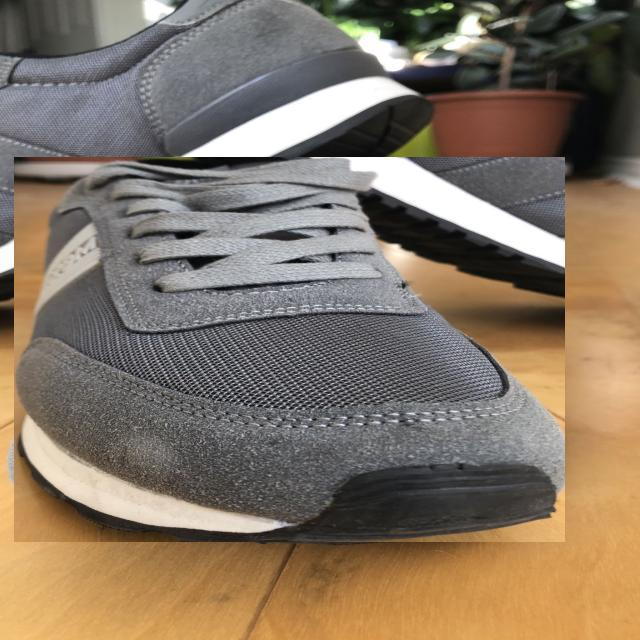shoes: (14, 157, 565, 542), (0, 0, 437, 303)
